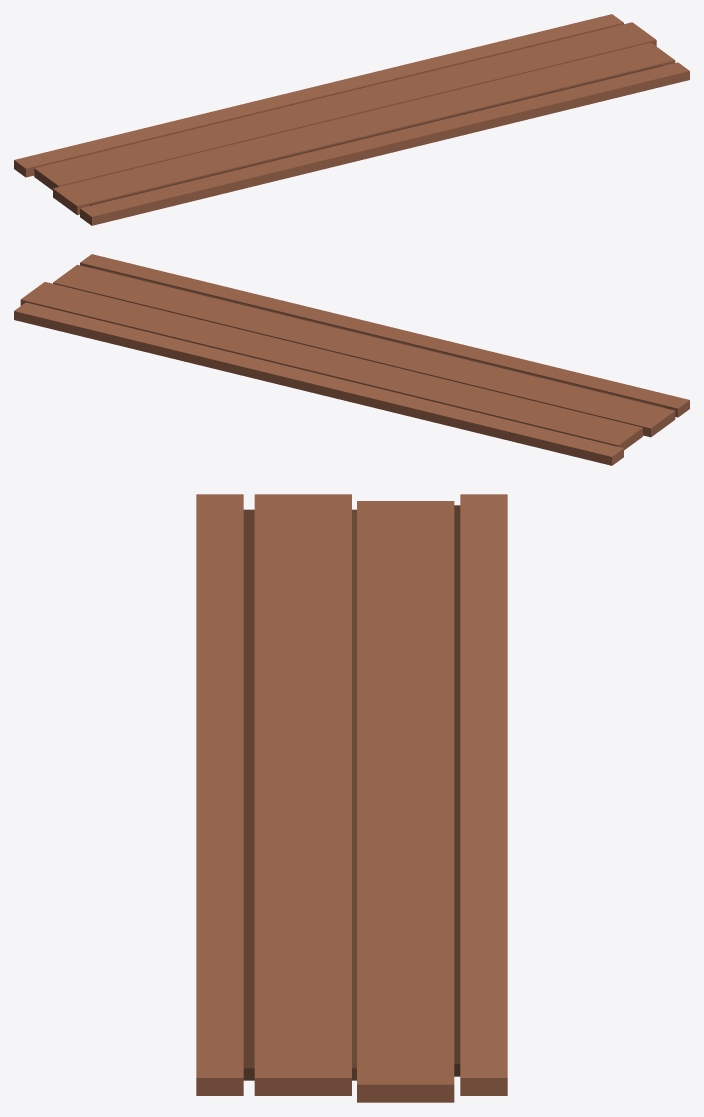
File: LEO BEACH PLANK.glb
The picture shows the model from 3 angles, top to bottom: view 1: azimuth 30°, elevation 25°; view 2: azimuth 150°, elevation 25°; view 3: azimuth 270°, elevation 25°; orthographic projection. The views are drawn at different scales.
Visible parts, largest first — view 1: Cube.006; view 2: Cube.006; view 3: Cube.006.
Part boxes in pixels (<box>): Cube.006: <box>14,14,689,225</box>; Cube.006: <box>14,254,689,465</box>; Cube.006: <box>196,494,507,1102</box>.
Bounding box in the file's own units: 14.16 × 0.2 × 3.16.
